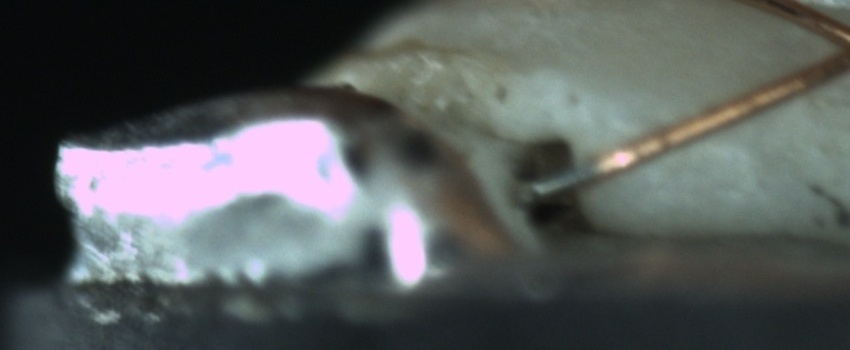CL: (803, 8, 850, 83)
TS: (526, 155, 600, 200)
TTCW: (526, 134, 651, 199)
